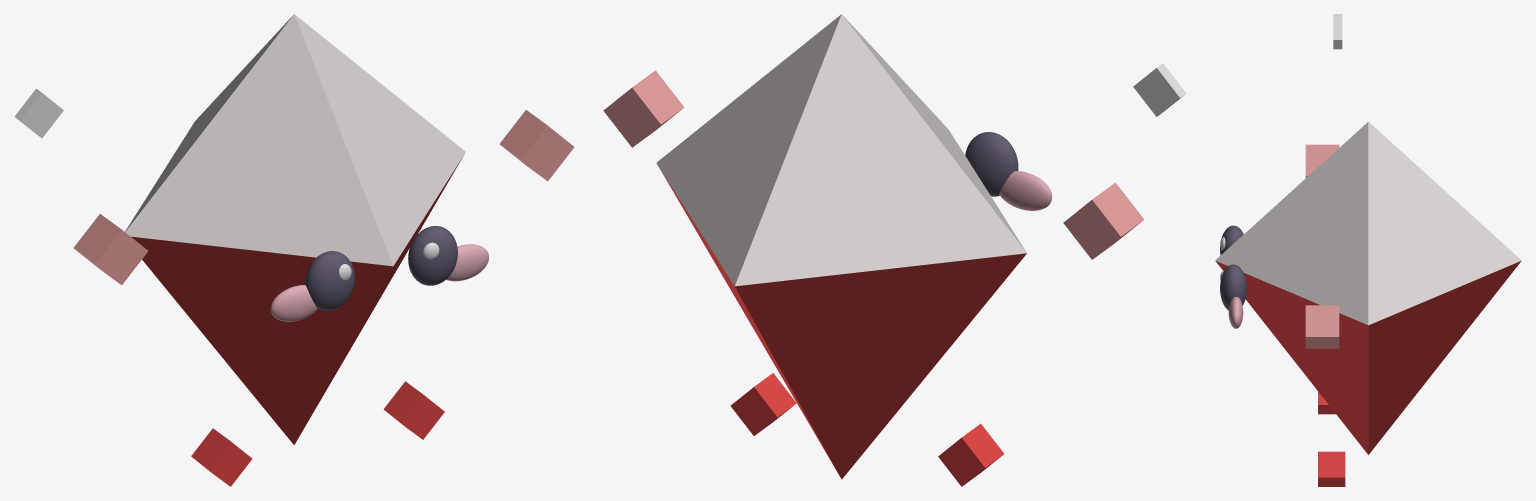
File: kiratsubu_coral.glb
3 views of the same model, side by side, from view 1: azimuth 30°, elevation 25°; view 2: azimuth 150°, elevation 25°; view 3: azimuth 270°, elevation 25° (orthographic). The views are drawn at different scales.
Parts seen in each view (by area): view 1: kiratsubu_0, kiratsubu_1, kiratsubu_2, kiratsubu_3, kiratsubu_10, kiratsubu_7, kiratsubu_5, kiratsubu_4, kiratsubu_6, kiratsubu_9, kiratsubu_12; view 2: kiratsubu_0, kiratsubu_1, kiratsubu_2, kiratsubu_3, kiratsubu_7, kiratsubu_4, kiratsubu_5, kiratsubu_9, kiratsubu_6; view 3: kiratsubu_0, kiratsubu_1, kiratsubu_3, kiratsubu_5, kiratsubu_10, kiratsubu_2, kiratsubu_12, kiratsubu_6, kiratsubu_7.
Boxes of the visible parts, x1,y1,x2,y2 form: kiratsubu_0: [125, 14, 465, 266]; kiratsubu_1: [131, 155, 463, 444]; kiratsubu_2: [73, 214, 148, 285]; kiratsubu_3: [499, 110, 574, 181]; kiratsubu_10: [408, 226, 457, 285]; kiratsubu_7: [305, 251, 354, 310]; kiratsubu_5: [383, 381, 444, 439]; kiratsubu_4: [191, 428, 252, 486]; kiratsubu_6: [14, 88, 63, 138]; kiratsubu_9: [270, 285, 317, 321]; kiratsubu_12: [446, 244, 488, 281]; kiratsubu_0: [656, 14, 1026, 286]; kiratsubu_1: [657, 164, 1026, 479]; kiratsubu_2: [1063, 182, 1144, 259]; kiratsubu_3: [603, 70, 684, 147]; kiratsubu_7: [965, 132, 1018, 196]; kiratsubu_4: [938, 423, 1004, 486]; kiratsubu_5: [730, 373, 796, 435]; kiratsubu_9: [999, 171, 1051, 210]; kiratsubu_6: [1133, 63, 1186, 116]; kiratsubu_0: [1215, 122, 1521, 325]; kiratsubu_1: [1215, 261, 1521, 454]; kiratsubu_3: [1305, 305, 1339, 348]; kiratsubu_5: [1318, 451, 1345, 486]; kiratsubu_10: [1220, 264, 1246, 310]; kiratsubu_2: [1305, 144, 1339, 177]; kiratsubu_12: [1228, 297, 1243, 328]; kiratsubu_6: [1333, 14, 1342, 49]; kiratsubu_7: [1220, 225, 1243, 255].
Bounding box in the file's own units: 1.56 × 1.21 × 1.
